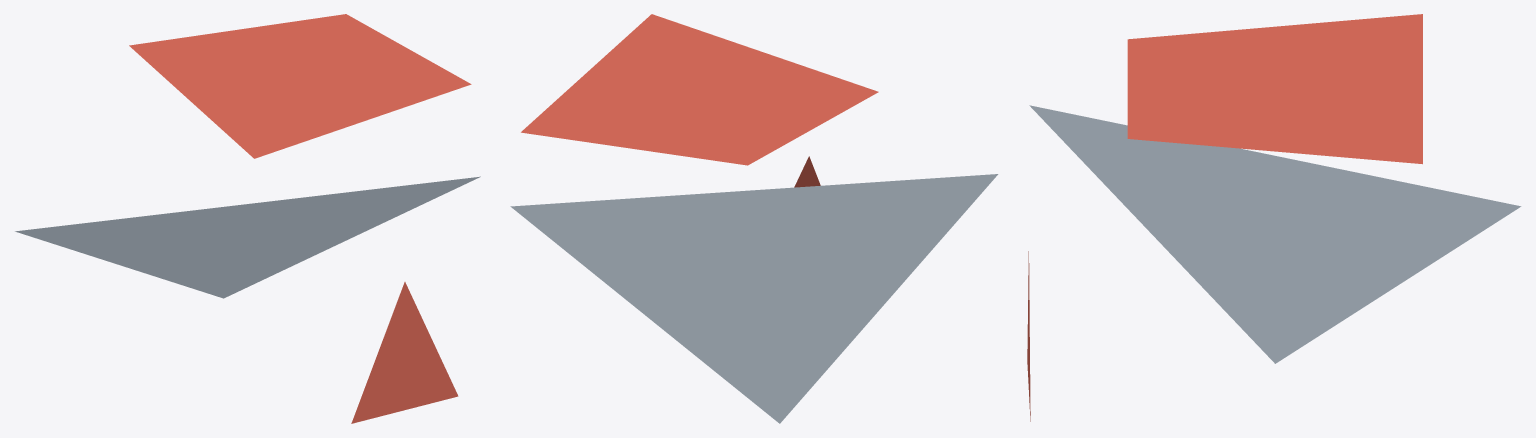
Rendered from SU_SuperweaponDome_LOD2.glb.
3 renders of one model, left to right at view 1: azimuth 30°, elevation 25°; view 2: azimuth 150°, elevation 25°; view 3: azimuth 270°, elevation 25°, orthographic. The views are drawn at different scales.
Visible parts, largest first — view 1: EntranceGate; view 2: EntranceGate; view 3: EntranceGate.
Boxes of the visible parts, box(x1,y1,x2,y2) form: EntranceGate: box(15, 14, 480, 423); EntranceGate: box(510, 14, 998, 423); EntranceGate: box(1027, 14, 1521, 421).
Size of the model in its own units: 1000 by 708 by 1003.
